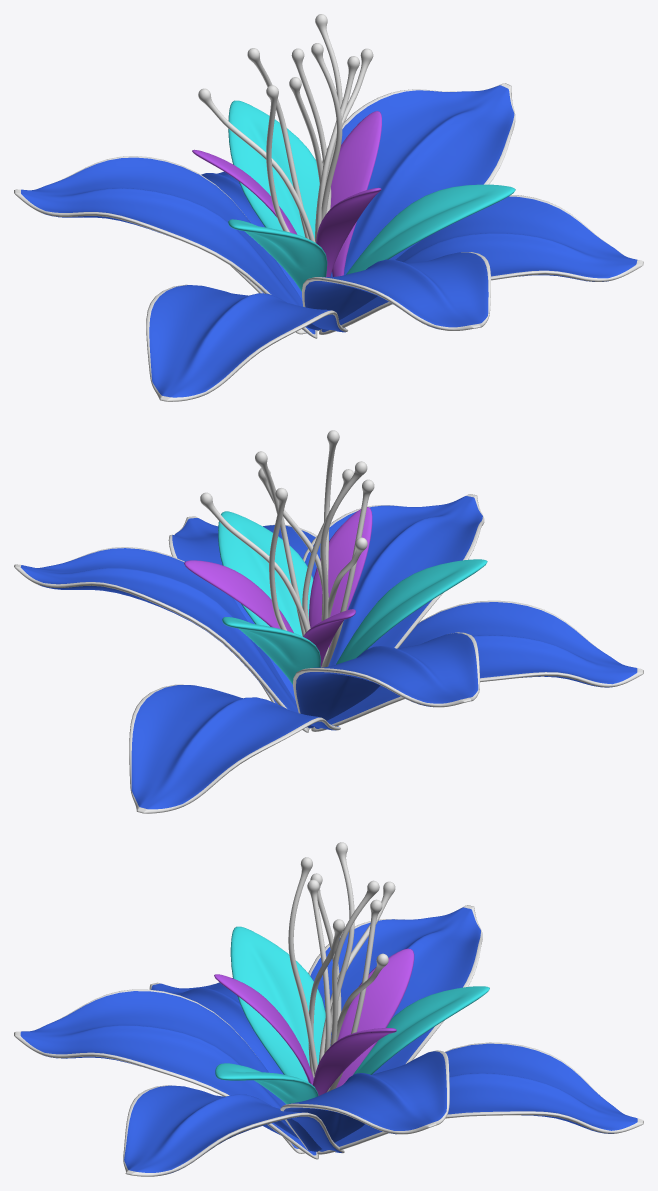
The model's file is NeonFlower.fbx.
The picture shows the model from 3 angles, top to bottom: view 1: azimuth 30°, elevation 25°; view 2: azimuth 150°, elevation 25°; view 3: azimuth 270°, elevation 25°; orthographic projection. The views are drawn at different scales.
Visible parts, largest first — view 1: Glowing Flower; view 2: Glowing Flower; view 3: Glowing Flower.
Boxes of the visible parts, x1=… form: Glowing Flower: x1=14, y1=14, x2=643, y2=401; Glowing Flower: x1=14, y1=430, x2=643, y2=813; Glowing Flower: x1=14, y1=842, x2=643, y2=1176.
Size of what is drawn, in the model's own units: 930 by 531 by 1060.
